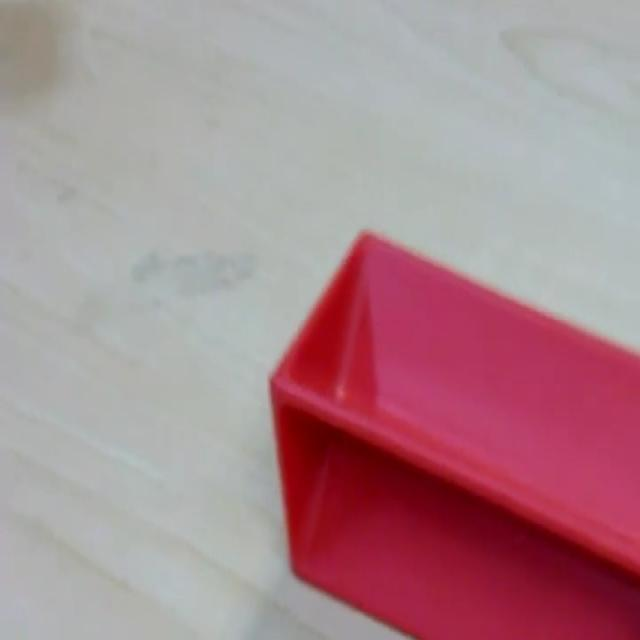red_block: (267, 225, 639, 638)
